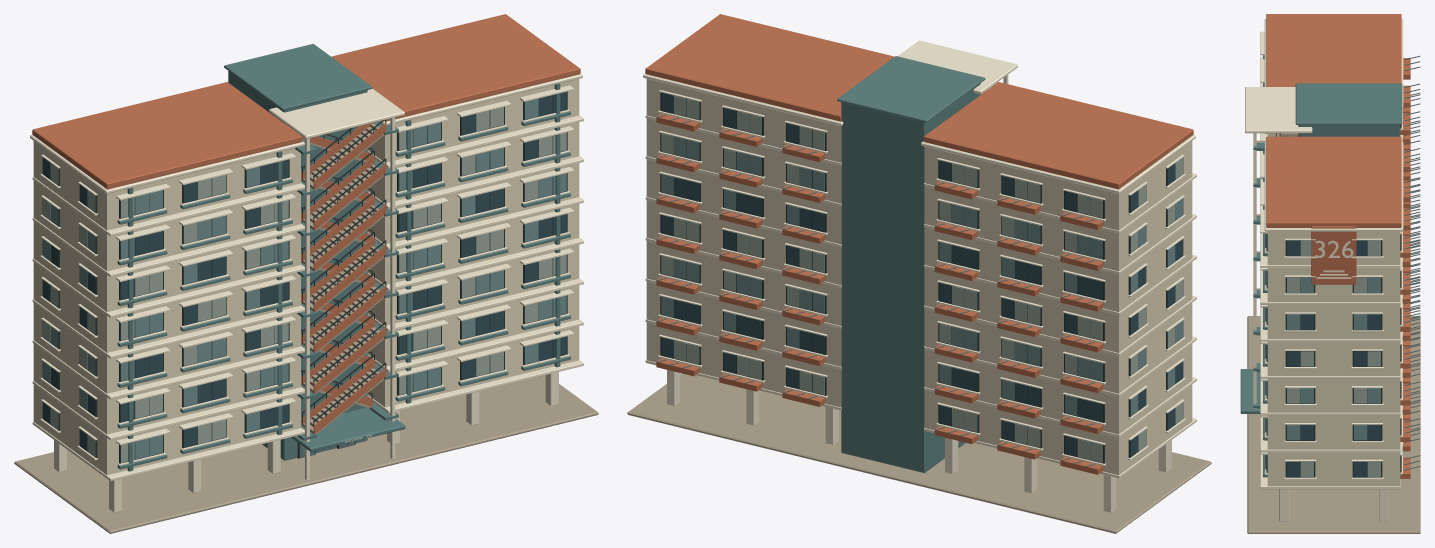
3 views of the same model, side by side, from view 1: azimuth 30°, elevation 25°; view 2: azimuth 150°, elevation 25°; view 3: azimuth 270°, elevation 25° (orthographic). The views are drawn at different scales.
Parts seen in each view (by area): view 1: Flats over void deck, Casements and sills, Open scissor stairs; view 2: Flats over void deck, Casements and sills, Kitchen drying bays, Open scissor stairs; view 3: Flats over void deck, Casements and sills, Kitchen drying bays, Open scissor stairs, Cast lettering.
Part boxes in pixels (x1,y1,x2,y2): Flats over void deck: (14,14,598,533); Casements and sills: (40,91,569,465); Open scissor stairs: (269,88,404,479); Flats over void deck: (627,14,1211,533); Casements and sills: (658,90,1185,465); Kitchen drying bays: (656,113,1103,474); Open scissor stairs: (898,40,1017,94); Flats over void deck: (1240,14,1420,533); Casements and sills: (1265,109,1402,479); Kitchen drying bays: (1400,56,1420,478); Open scissor stairs: (1245,87,1312,443); Cast lettering: (1315,240,1353,257).
Size of the model in its own units: 36.29 by 25.35 by 12.82.
